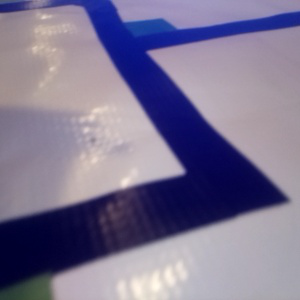top_right: (103, 17, 178, 44)
